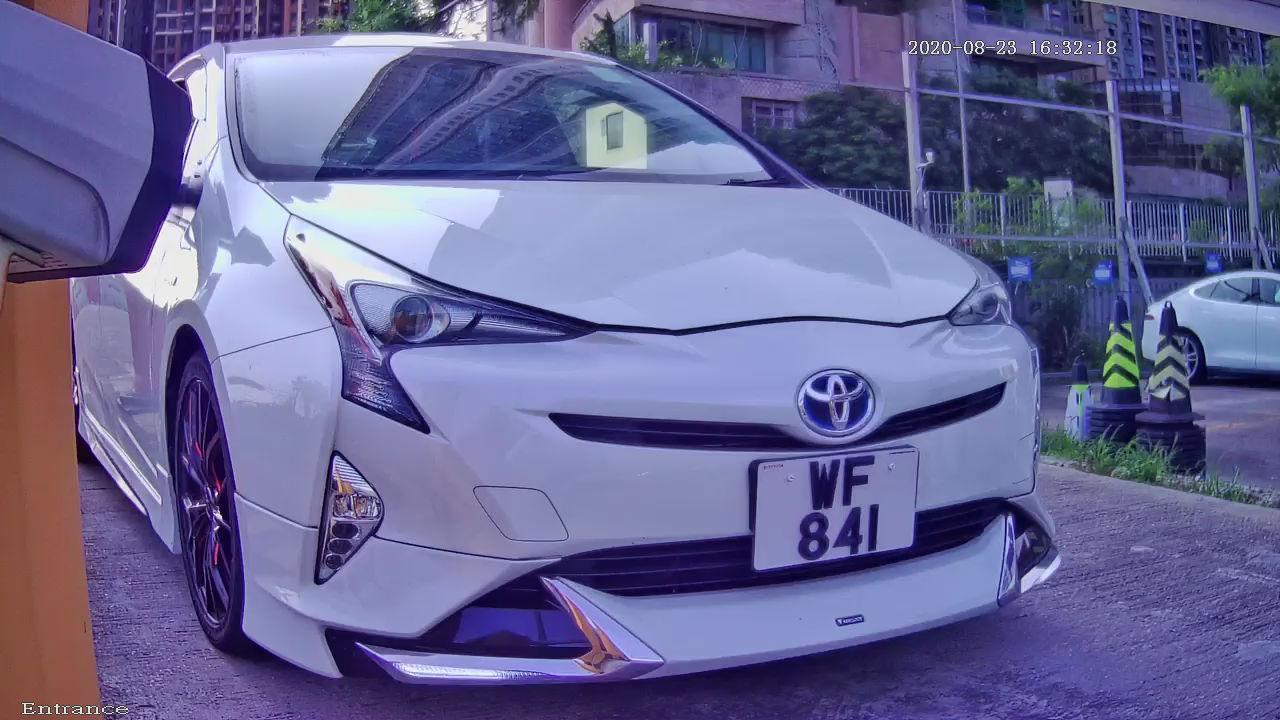License Plate: (738, 422, 938, 589)
